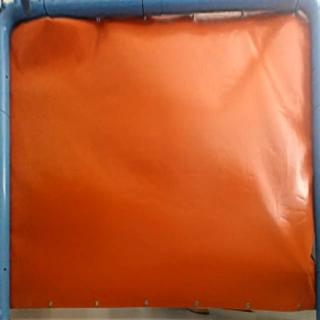Hit-hRxx: (297, 265, 312, 281)
